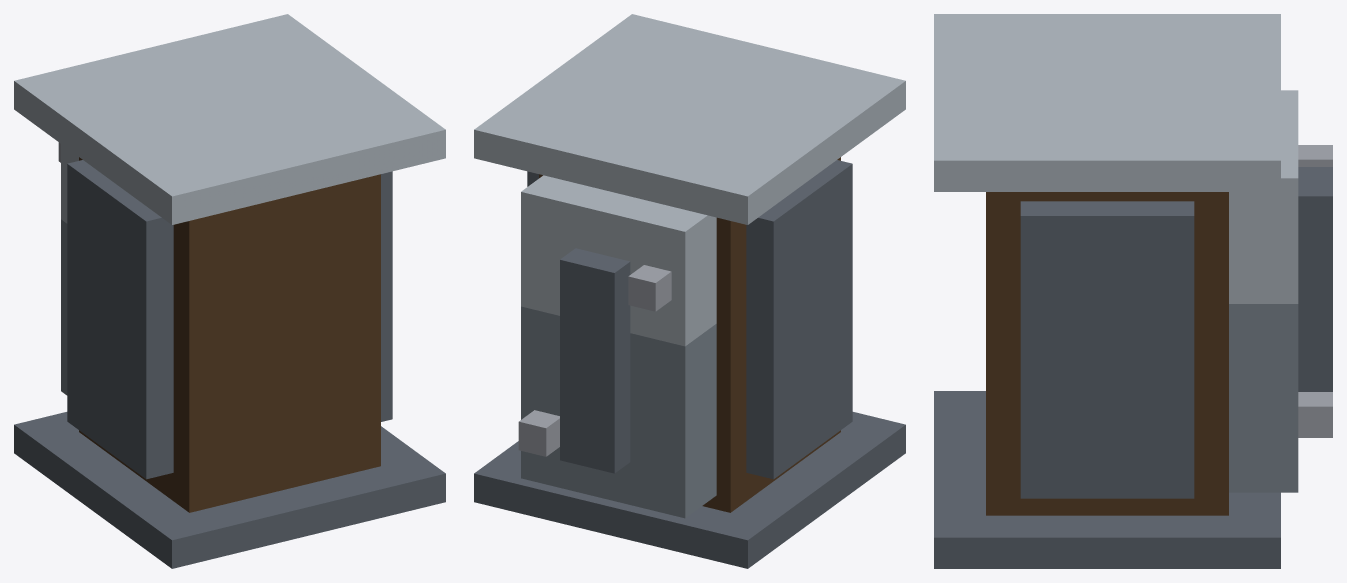
The model's file is armor_voxel_iron_bracers.glb.
The picture shows the model from 3 angles, left to right: view 1: azimuth 30°, elevation 25°; view 2: azimuth 150°, elevation 25°; view 3: azimuth 270°, elevation 25°; orthographic projection. The views are drawn at different scales.
Visible parts, largest first — view 1: underwrap, rim_top, band_left, rim_bot, band_right, plate_lower, plate_upper; view 2: rim_top, band_left, rim_bot, plate_upper, plate_lower, hinge, underwrap, plate_mid, rivet_a, rivet_b; view 3: rim_top, band_right, underwrap, rim_bot, plate_upper, plate_lower, hinge, plate_mid, rivet_b, rivet_a.
Part boxes in pixels (x1,y1,x2,y2): underwrap: (79, 157, 380, 512); rim_top: (14, 14, 445, 224); band_left: (67, 160, 173, 479); rim_bot: (14, 412, 445, 568); band_right: (381, 171, 392, 421); plate_lower: (61, 277, 67, 395); plate_upper: (61, 144, 78, 223); rim_top: (474, 14, 905, 224); band_left: (746, 160, 852, 479); rim_bot: (474, 412, 905, 568); plate_upper: (521, 175, 716, 346); plate_lower: (521, 364, 716, 518); hinge: (560, 248, 630, 473); underwrap: (539, 157, 840, 512); plate_mid: (521, 306, 716, 403); rivet_a: (628, 265, 671, 311); rivet_b: (518, 410, 559, 456); rim_top: (934, 14, 1280, 191); band_right: (1020, 201, 1194, 498); underwrap: (986, 192, 1228, 515); rim_bot: (934, 391, 1280, 568); plate_upper: (1229, 90, 1298, 303); plate_lower: (1229, 367, 1298, 492); hinge: (1298, 167, 1332, 391); plate_mid: (1229, 304, 1298, 366); rivet_b: (1298, 392, 1332, 437); rivet_a: (1298, 145, 1332, 166).
Size of the model in its own units: 0.3125 by 0.4062 by 0.3594.
